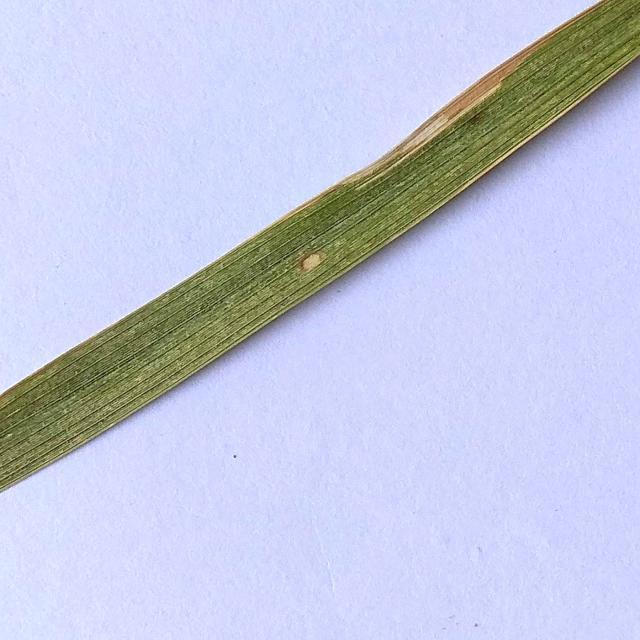Blast: (299, 251, 325, 276)
